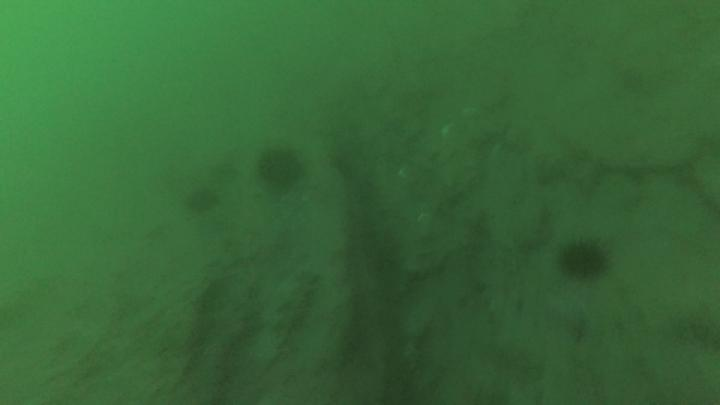echinus: (561, 243, 607, 282), (261, 153, 301, 187), (187, 193, 215, 212)
